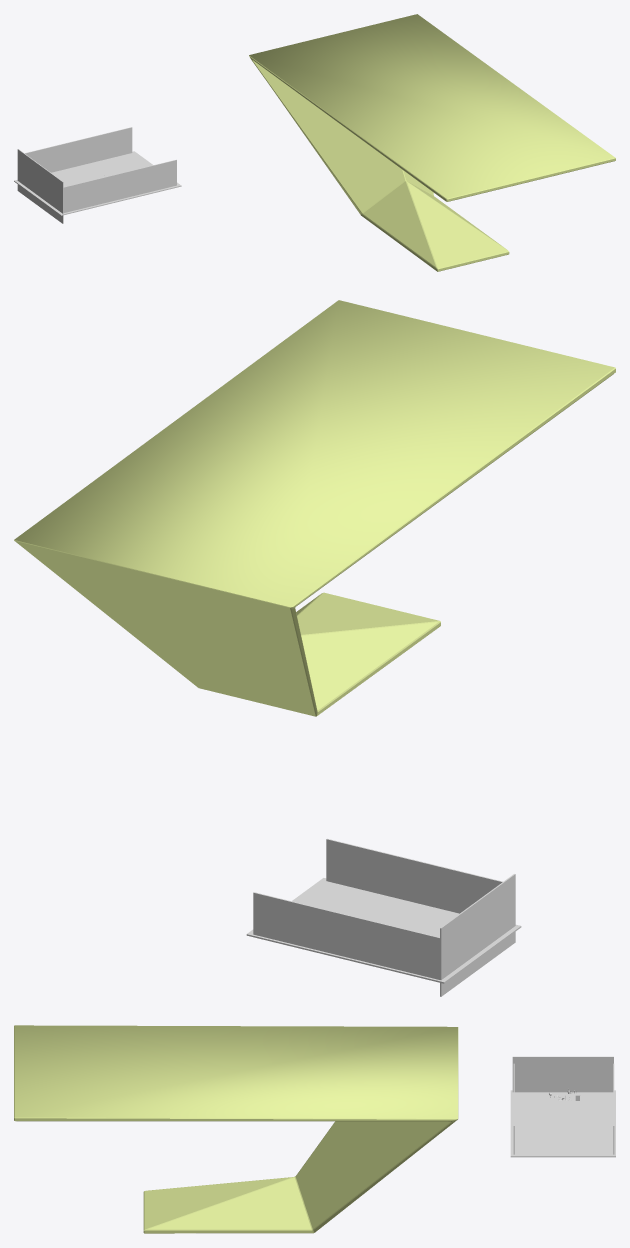
File: salle_tokyo.fbx
3 views of the same model, one above another, from view 1: azimuth 30°, elevation 25°; view 2: azimuth 150°, elevation 25°; view 3: azimuth 270°, elevation 25° (orthographic). The views are drawn at different scales.
Parts seen in each view (by area): view 1: roche_bobois_furtif_desk, Plane, Plane.001, Plane.002, Plane.004; view 2: roche_bobois_furtif_desk, Plane.001, Plane, Plane.002, Plane.004; view 3: roche_bobois_furtif_desk, Plane.002, Plane.004.
Boxes of the visible parts, <box> form: roche_bobois_furtif_desk: <box>249,14,615,271</box>; Plane: <box>63,159,176,212</box>; Plane.001: <box>25,127,132,172</box>; Plane.002: <box>14,151,181,215</box>; Plane.004: <box>17,149,63,223</box>; roche_bobois_furtif_desk: <box>14,300,615,716</box>; Plane.001: <box>253,892,439,979</box>; Plane: <box>326,838,502,913</box>; Plane.002: <box>246,878,521,983</box>; Plane.004: <box>440,874,515,996</box>; roche_bobois_furtif_desk: <box>14,1025,458,1233</box>; Plane.002: <box>510,1090,615,1157</box>; Plane.004: <box>512,1056,613,1092</box>.
Bounding box in the file's own units: 65939 × 28056 × 92112.
